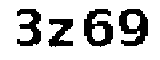3: (10, 4, 43, 51)
6: (82, 4, 116, 53)
9: (118, 3, 153, 52)
z: (47, 12, 78, 52)
